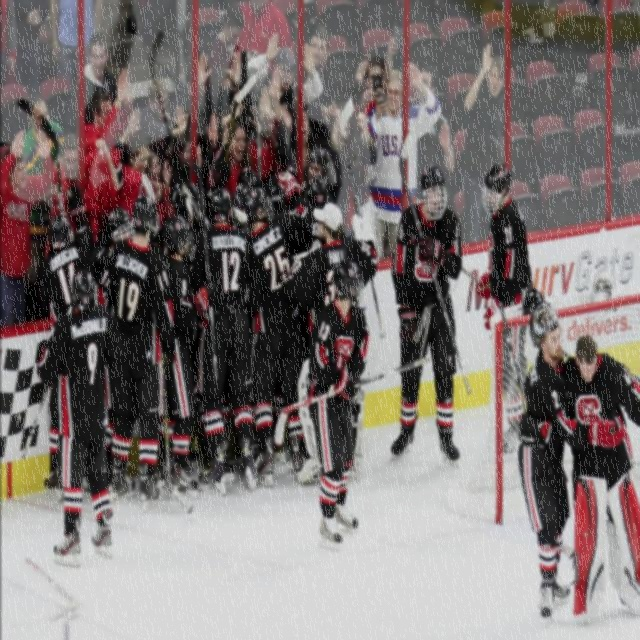pessoa: (517, 302, 631, 620), (284, 200, 380, 493), (32, 268, 118, 566), (551, 331, 639, 607), (387, 160, 464, 468), (104, 190, 178, 509), (236, 183, 308, 487), (303, 256, 372, 548), (472, 158, 539, 456), (198, 184, 258, 489), (39, 184, 94, 491), (360, 58, 442, 261), (162, 214, 217, 491), (382, 23, 457, 204), (82, 66, 132, 306), (97, 208, 138, 487), (0, 127, 53, 331), (245, 30, 324, 154), (462, 42, 506, 245), (302, 24, 348, 134), (138, 78, 190, 162), (12, 0, 52, 104), (172, 106, 222, 188), (290, 105, 338, 187), (21, 95, 68, 178), (208, 1, 246, 93), (82, 34, 118, 128), (116, 134, 154, 222), (50, 130, 80, 238), (523, 2, 557, 96), (235, 0, 292, 56), (251, 84, 281, 187), (296, 147, 336, 210), (142, 150, 174, 228), (352, 54, 387, 119), (112, 0, 139, 68), (171, 131, 203, 188), (0, 0, 20, 76), (112, 106, 142, 154), (190, 49, 213, 102), (204, 154, 231, 197), (304, 172, 329, 212), (236, 168, 260, 205), (226, 48, 244, 84)
